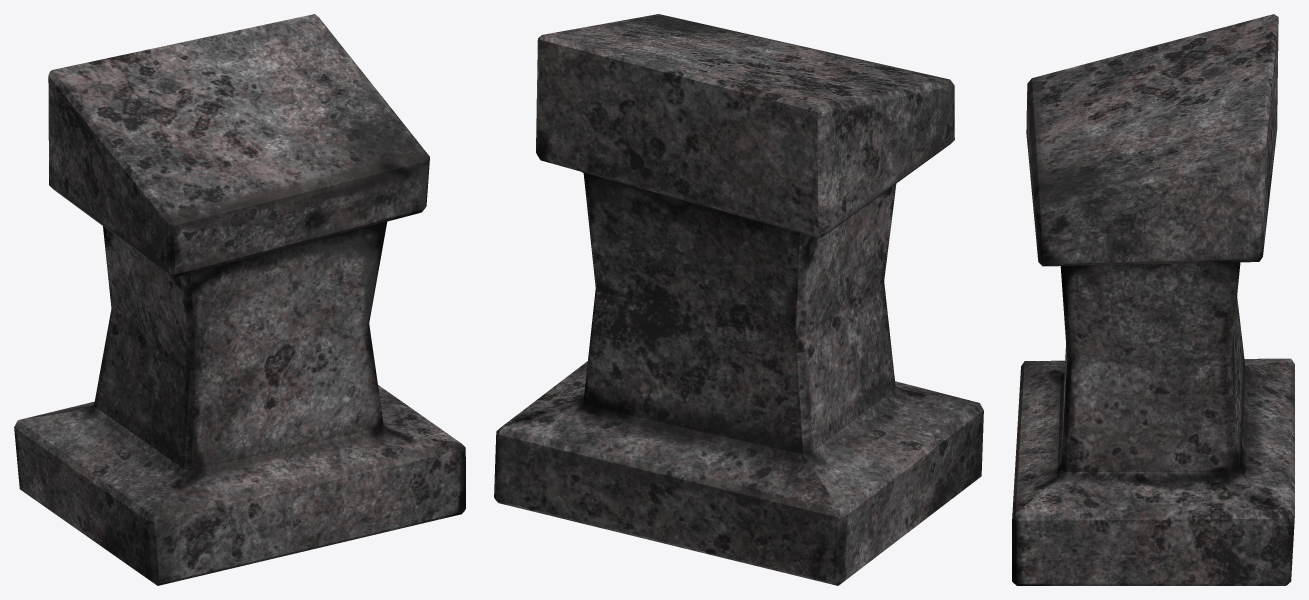
File: Podest.fbx
3 renders of one model, left to right at view 1: azimuth 30°, elevation 25°; view 2: azimuth 150°, elevation 25°; view 3: azimuth 270°, elevation 25°, orthographic. The views are drawn at different scales.
Parts seen in each view (by area): view 1: Podest; view 2: Podest; view 3: Podest.
Part boxes in pixels (x1,y1,x2,y2): Podest: [14, 14, 465, 585]; Podest: [494, 14, 983, 585]; Podest: [1012, 14, 1294, 585].
Size of the model in its own units: 110 by 83.08 by 140.
Materials: 1 (1 with a texture image).
